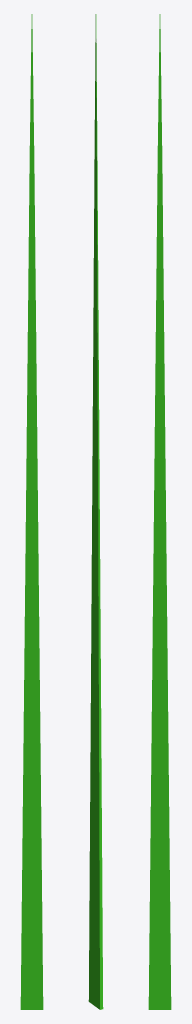
Rendered from reed.fbx.
3 renders of one model, left to right at view 1: azimuth 90°, elevation 25°; view 2: azimuth 210°, elevation 25°; view 3: azimuth 270°, elevation 25°, orthographic.
Visible parts, largest first — view 1: reed; view 2: reed; view 3: reed.
Part boxes in pixels (x1,y1,x2,y2): reed: (20,14,43,1009); reed: (88,14,103,1009); reed: (148,14,171,1009).
Size of the model in its own units: 3.58 by 1089 by 22.39.
